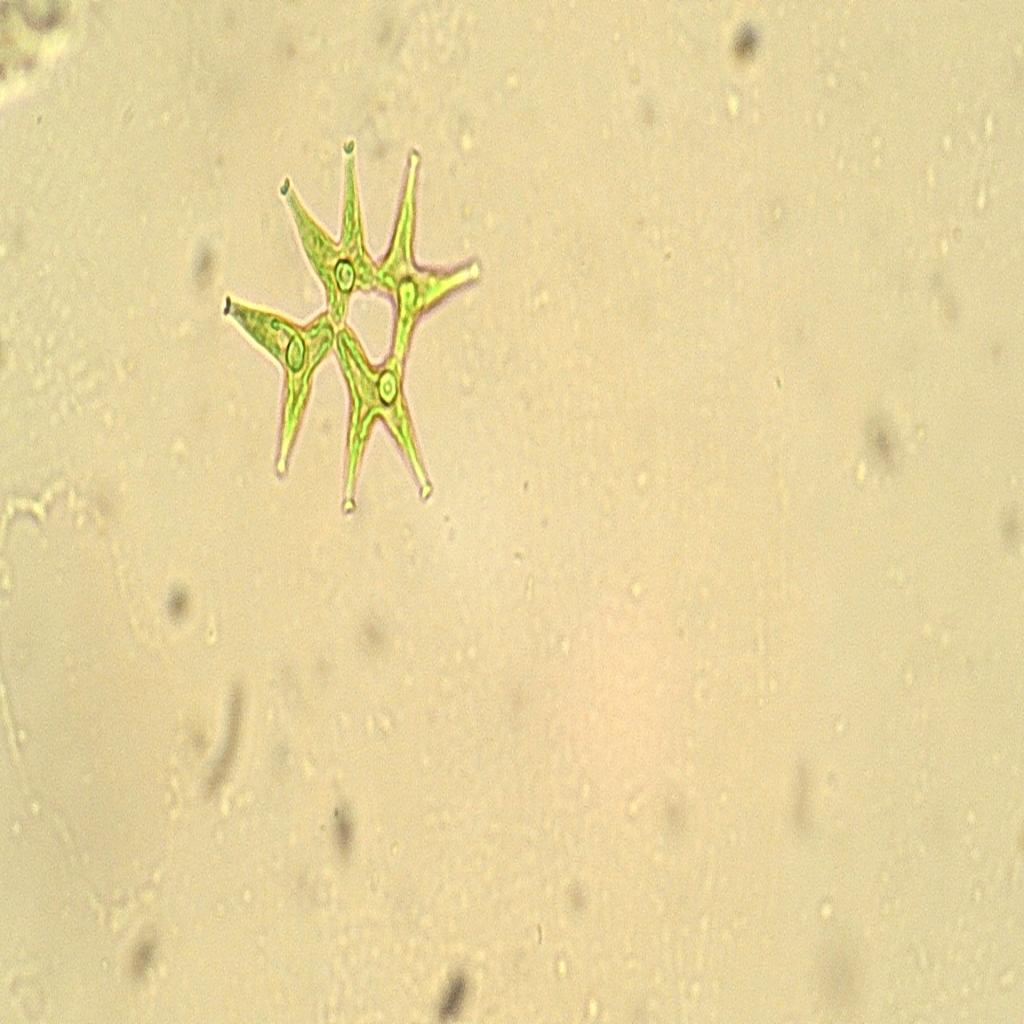Pediastrum_CT: (214, 127, 500, 537)
